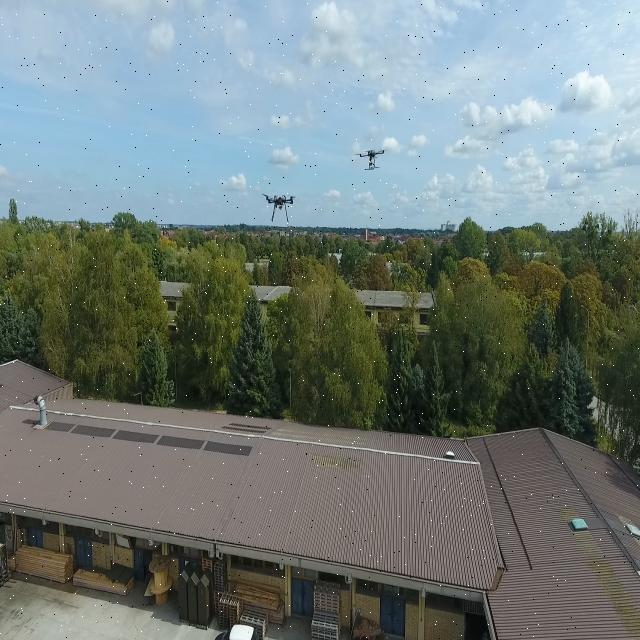UAV: (259, 187, 301, 222), (352, 140, 392, 172)
